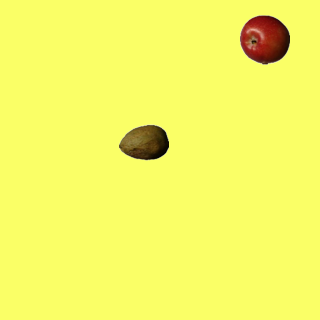Apple Braeburn: (239, 14, 289, 64)
Papaya: (118, 117, 168, 167)
